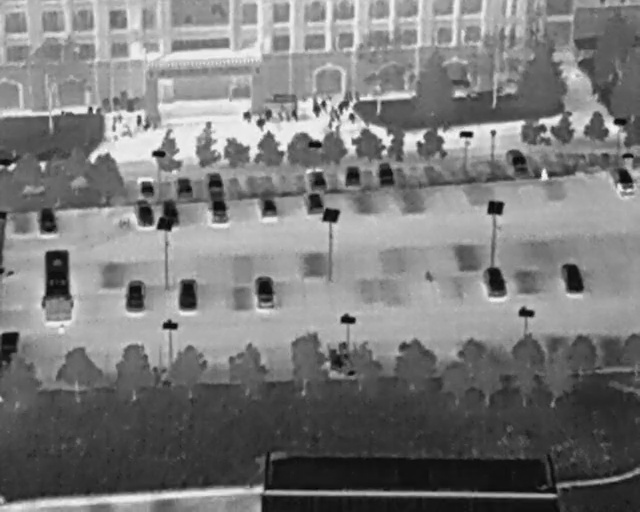Bicycle: (324, 106, 340, 130), (333, 96, 353, 115), (309, 94, 321, 117), (288, 101, 301, 122), (253, 114, 265, 132), (140, 117, 153, 132), (318, 98, 329, 115), (242, 110, 252, 122), (348, 112, 357, 125), (111, 115, 117, 132), (275, 110, 284, 120), (263, 107, 271, 118), (135, 115, 142, 127), (85, 106, 93, 114)
Car: (556, 260, 588, 297), (609, 164, 637, 200), (503, 145, 530, 179), (482, 265, 508, 300), (131, 197, 157, 230), (253, 276, 276, 310), (0, 330, 20, 367), (36, 205, 59, 235), (305, 166, 329, 194), (160, 198, 182, 228), (125, 280, 145, 313), (177, 279, 197, 312), (257, 194, 279, 221), (210, 197, 230, 225), (375, 160, 395, 188), (304, 190, 325, 215), (174, 175, 194, 199), (342, 164, 362, 188), (137, 178, 156, 200), (207, 169, 224, 193)
OtherVehicle: (40, 247, 75, 323)
